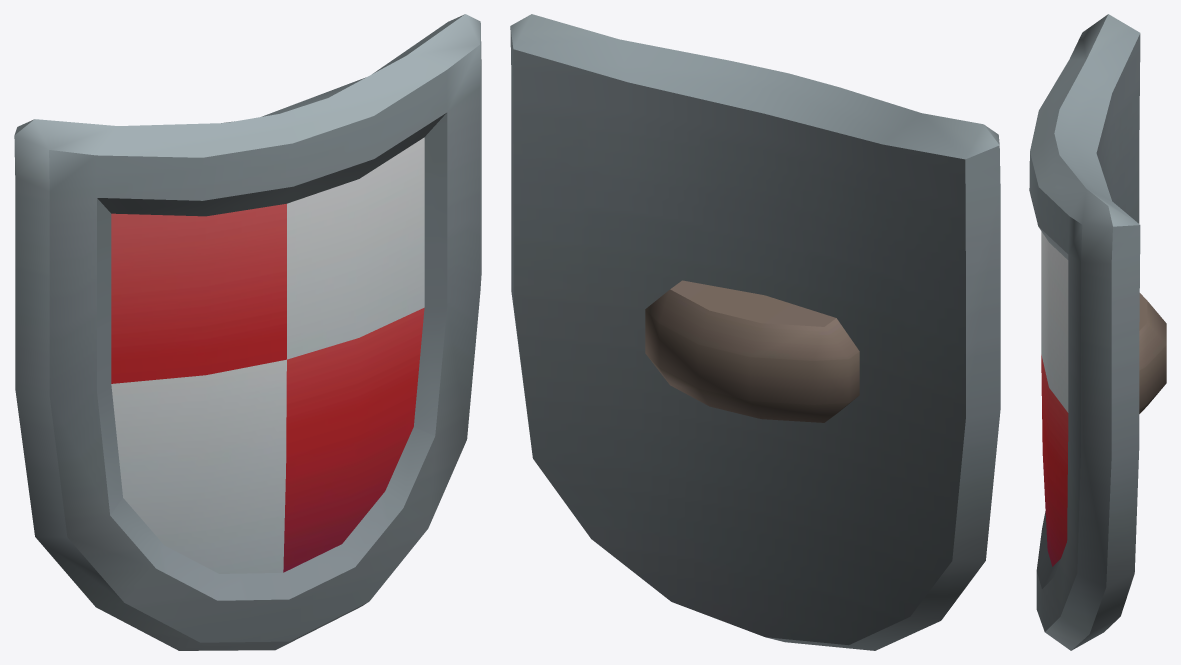
File: kaykit-shield-badge-color.glb
3 views of the same model, side by side, from view 1: azimuth 30°, elevation 25°; view 2: azimuth 150°, elevation 25°; view 3: azimuth 270°, elevation 25° (orthographic). The views are drawn at different scales.
Parts seen in each view (by area): view 1: shield_badge_color; view 2: shield_badge_color; view 3: shield_badge_color.
Part boxes in pixels (<box>): shield_badge_color: <box>14,14,481,650</box>; shield_badge_color: <box>510,14,1000,650</box>; shield_badge_color: <box>1029,14,1166,650</box>.
Bounding box in the file's own units: 0.8827 × 1.02 × 0.2458.
1 material, 1 textured.
